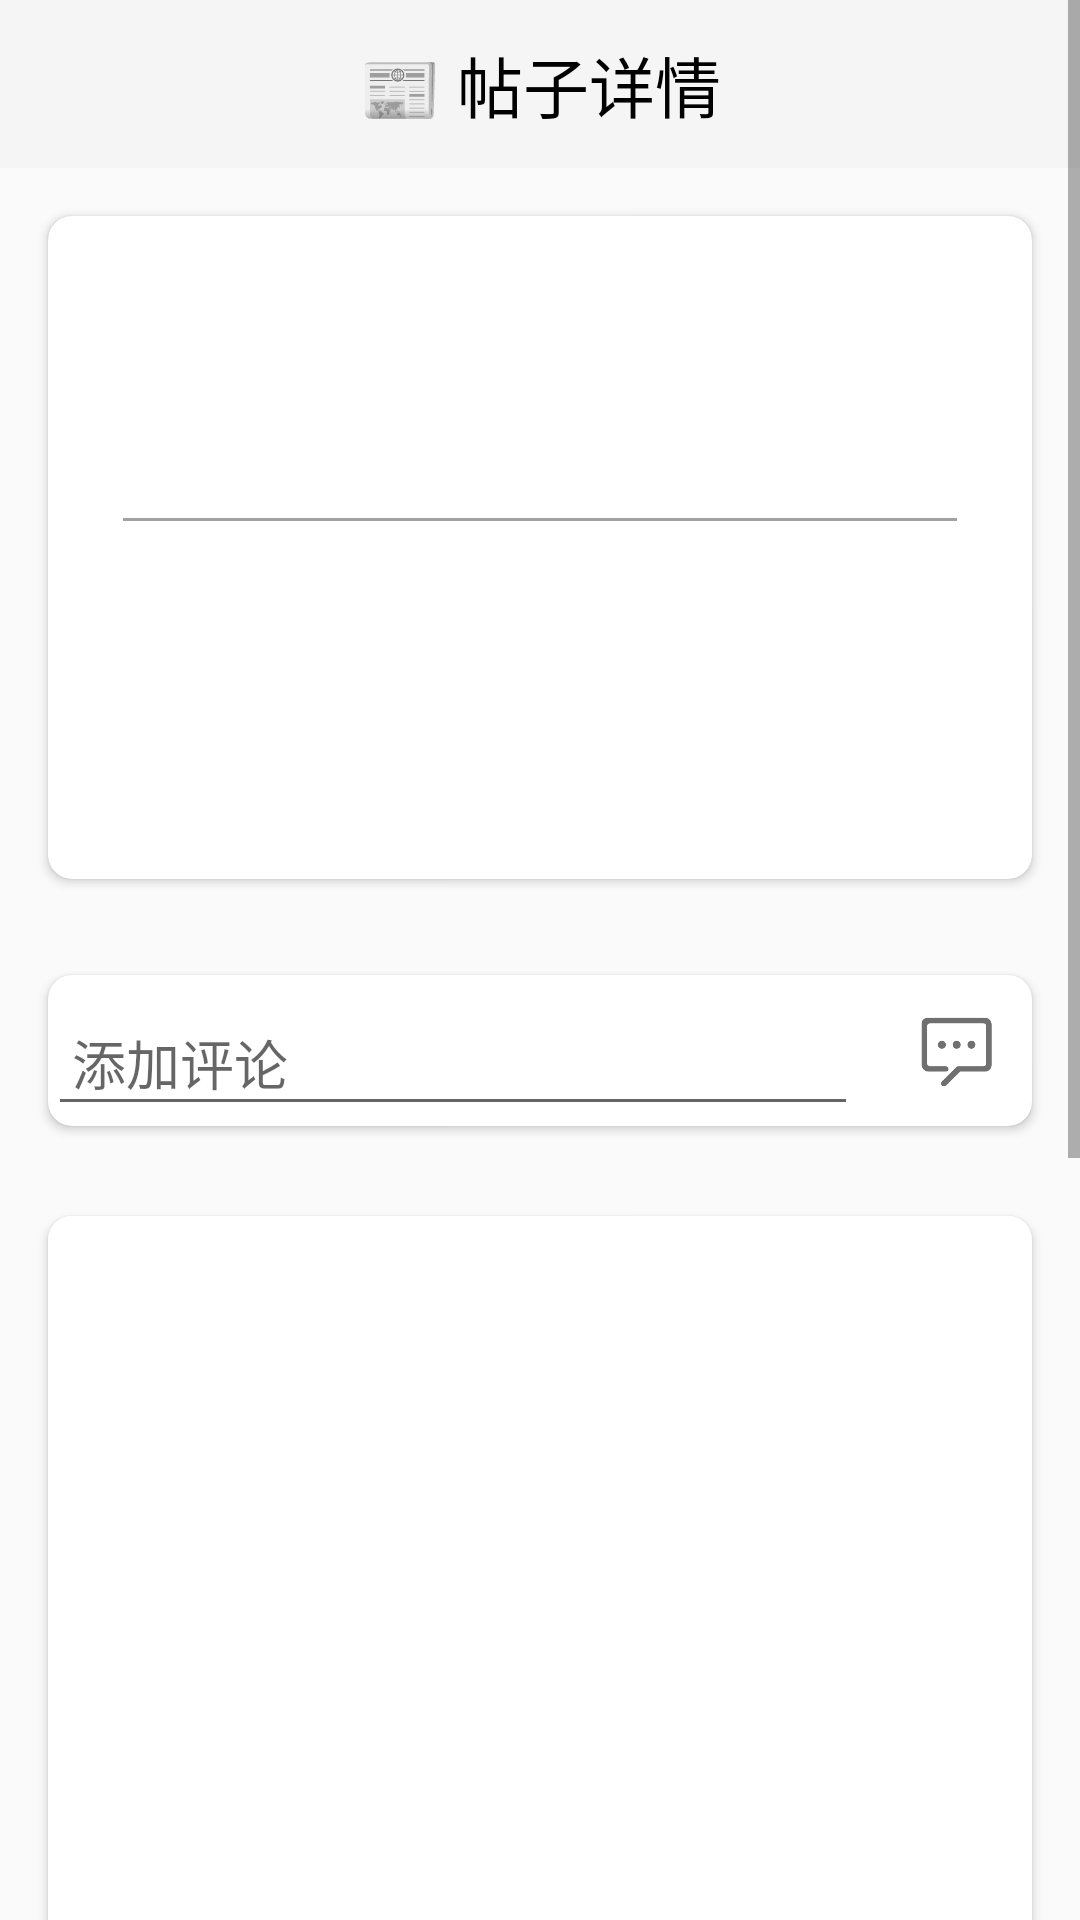

Icons on this 1080x1920 Android screen, each with its box as bbox=(x1, y1, x2, y2):
comment add: bbox=(921, 984, 1030, 1086)
